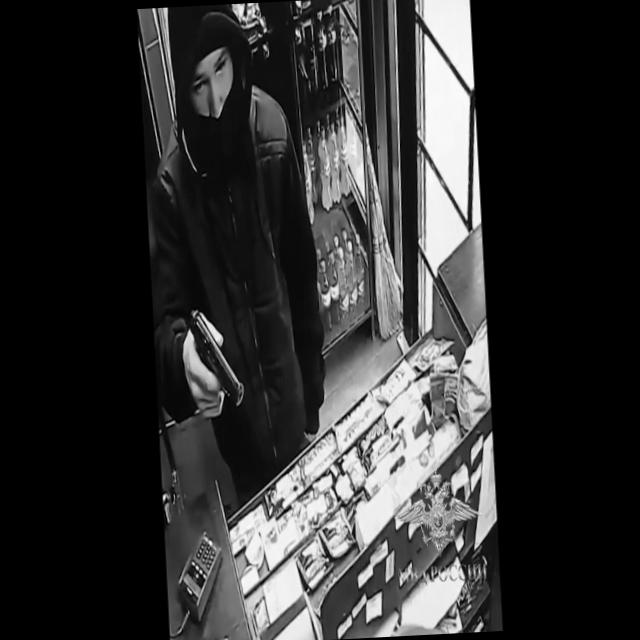gun: (182, 303, 248, 446)
person with a gun: (141, 6, 330, 503)
